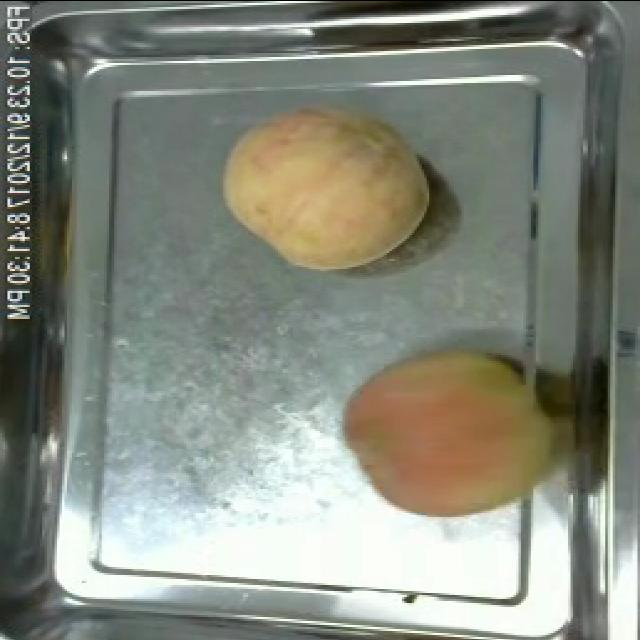Fruit: (210, 88, 437, 280), (337, 334, 551, 528)
